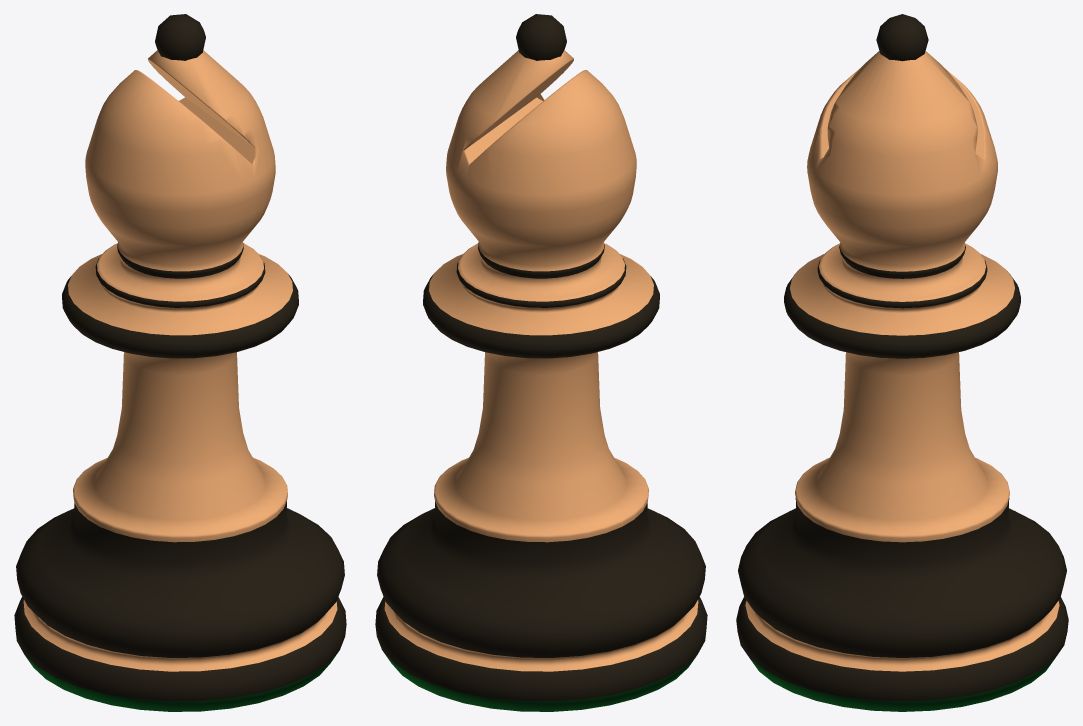
Rendered from BishopWhite.fbx.
3 views of the same model, side by side, from view 1: azimuth 30°, elevation 25°; view 2: azimuth 150°, elevation 25°; view 3: azimuth 270°, elevation 25° (orthographic).
Visible parts, largest first — view 1: White Bishop Q; view 2: White Bishop Q; view 3: White Bishop Q.
Boxes of the visible parts, x1=… form: White Bishop Q: x1=14, y1=14, x2=346, y2=711; White Bishop Q: x1=375, y1=14, x2=707, y2=711; White Bishop Q: x1=736, y1=14, x2=1068, y2=711.
Bounding box in the file's own units: 4.01 × 8.39 × 4.01.
